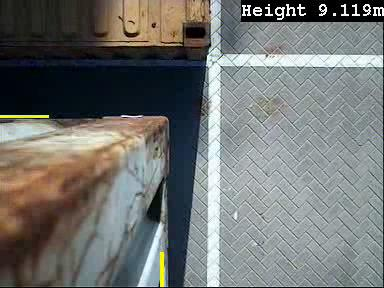groundmarker_2: (192, 35, 230, 122)
